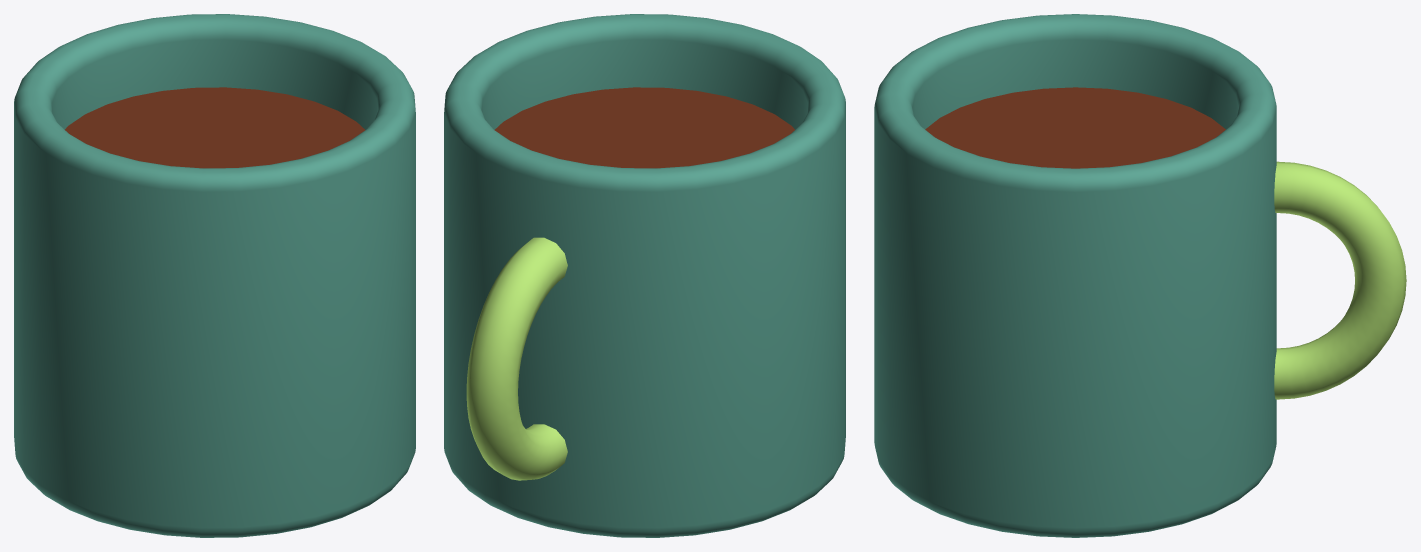
Rendered from asset.glb.
3 views of the same model, side by side, from view 1: azimuth 30°, elevation 25°; view 2: azimuth 150°, elevation 25°; view 3: azimuth 270°, elevation 25° (orthographic).
Parts seen in each view (by area): view 1: 円柱; view 2: 円柱, トーラス; view 3: 円柱, トーラス.
Part boxes in pixels (x1,y1,x2,y2): 円柱: (14, 14, 415, 537); 円柱: (444, 14, 845, 537); トーラス: (466, 237, 567, 480); 円柱: (874, 14, 1276, 537); トーラス: (1274, 161, 1406, 399).
Bounding box in the file's own units: 2 × 2 × 2.65.
